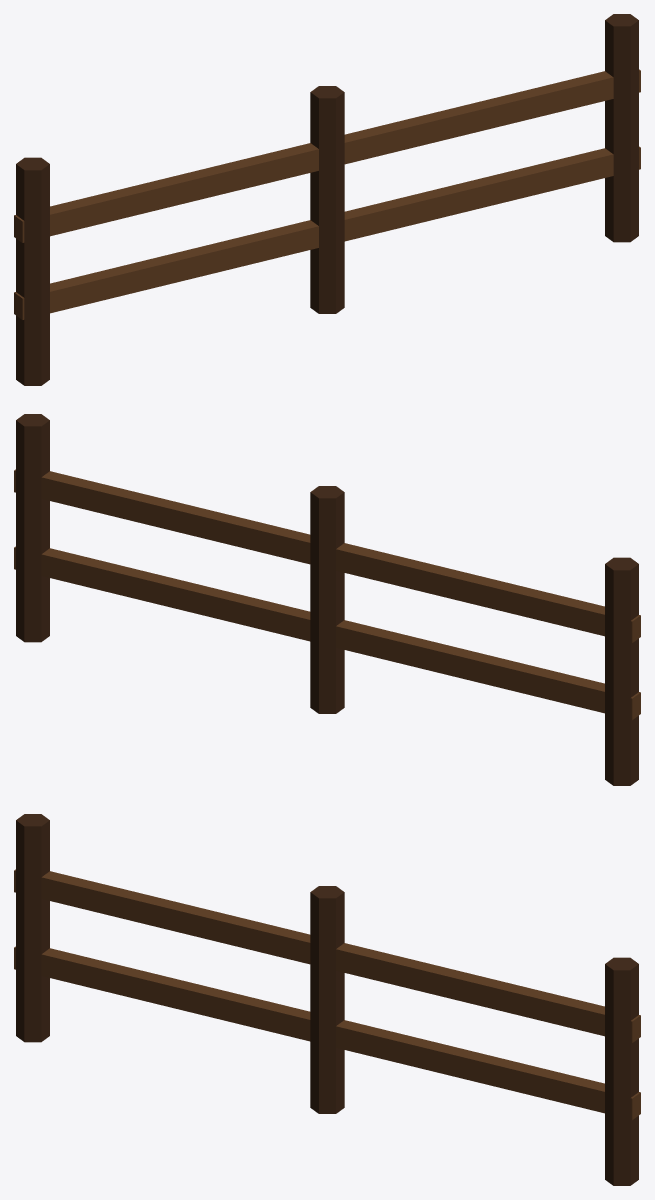
Rendered from SM_GZ_fence.fbx.
The picture shows the model from 3 angles, top to bottom: view 1: azimuth 30°, elevation 25°; view 2: azimuth 150°, elevation 25°; view 3: azimuth 330°, elevation 25°; orthographic projection.
Visible parts, largest first — view 1: SM_GZ_fence; view 2: SM_GZ_fence; view 3: SM_GZ_fence.
Boxes of the visible parts, x1=… form: SM_GZ_fence: x1=14, y1=14, x2=640, y2=385; SM_GZ_fence: x1=14, y1=414, x2=640, y2=785; SM_GZ_fence: x1=14, y1=814, x2=640, y2=1185.
Size of the model in its own units: 420 by 140 by 20.
